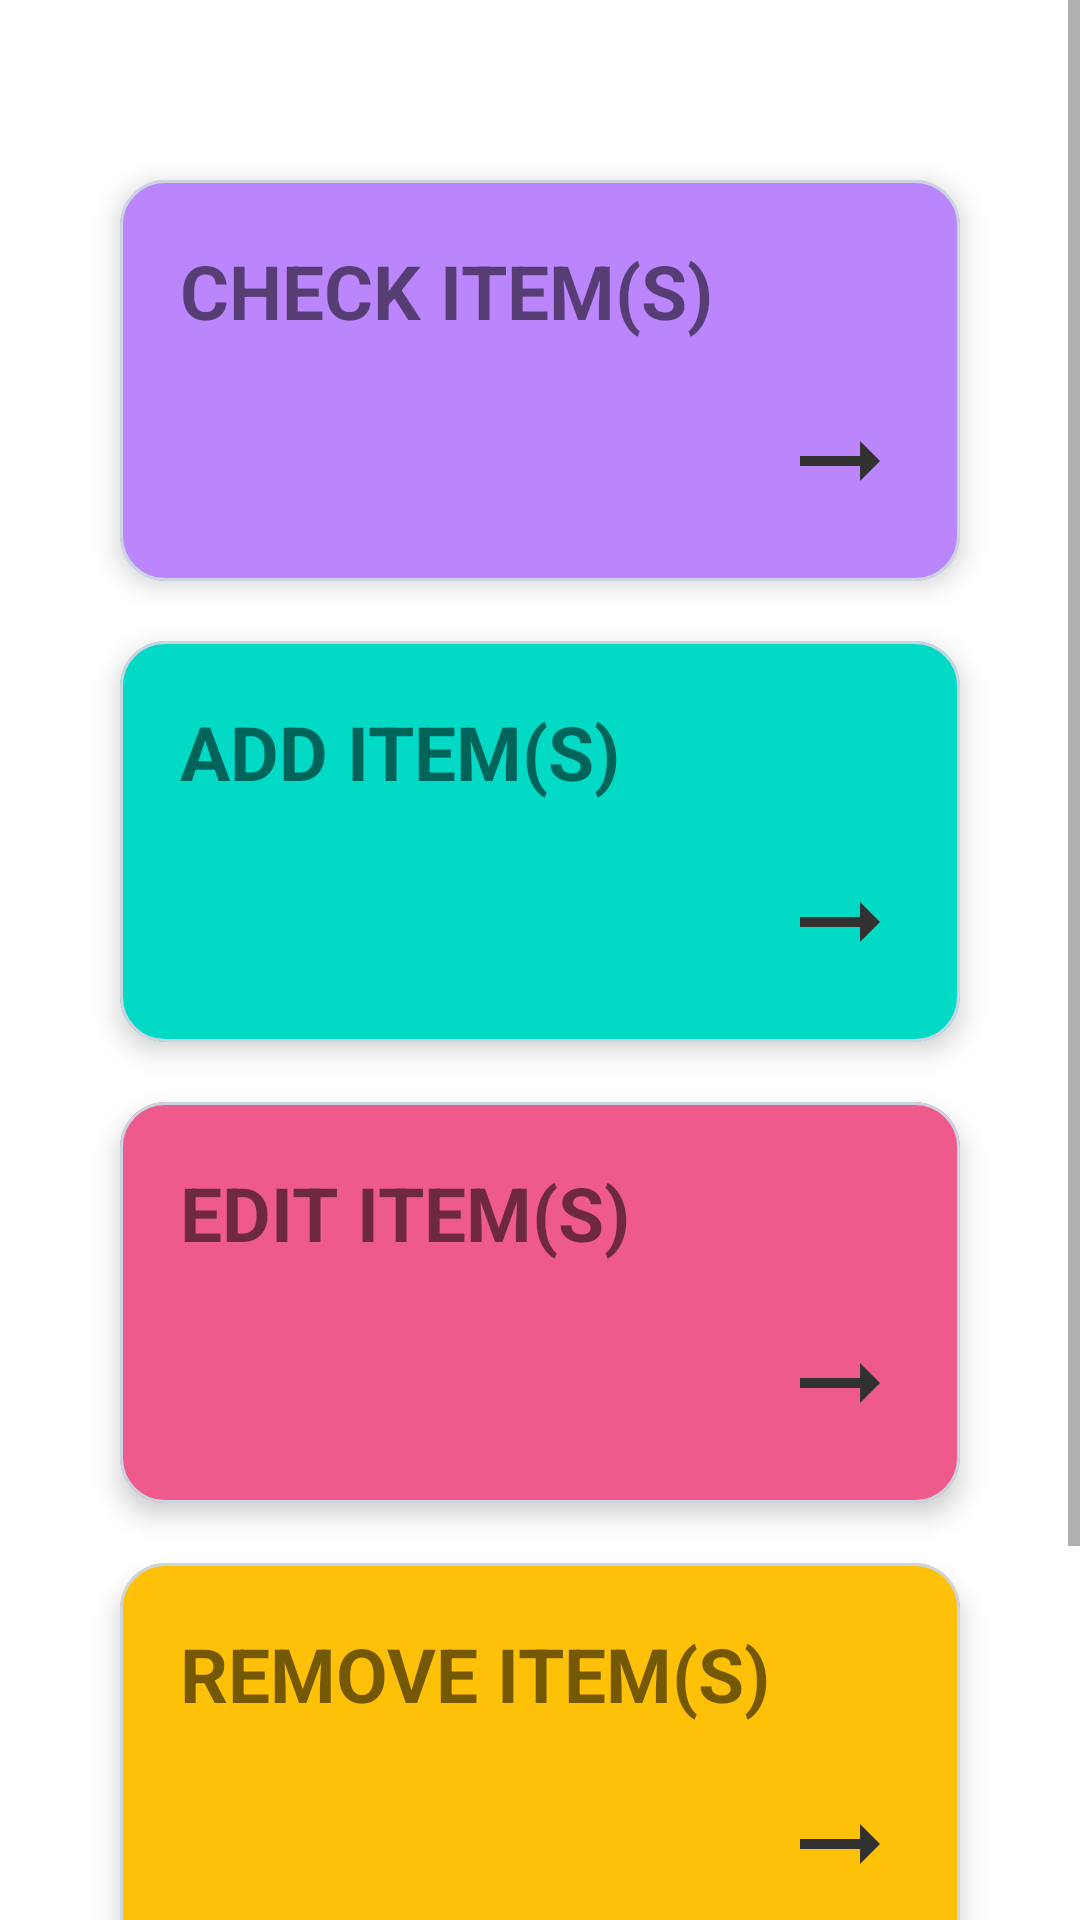

Point at icon controls on the screen. Image size 1080px×1920px, points as (x,y).
arrow right: (840,461), (840,922), (840,1383), (840,1844)
